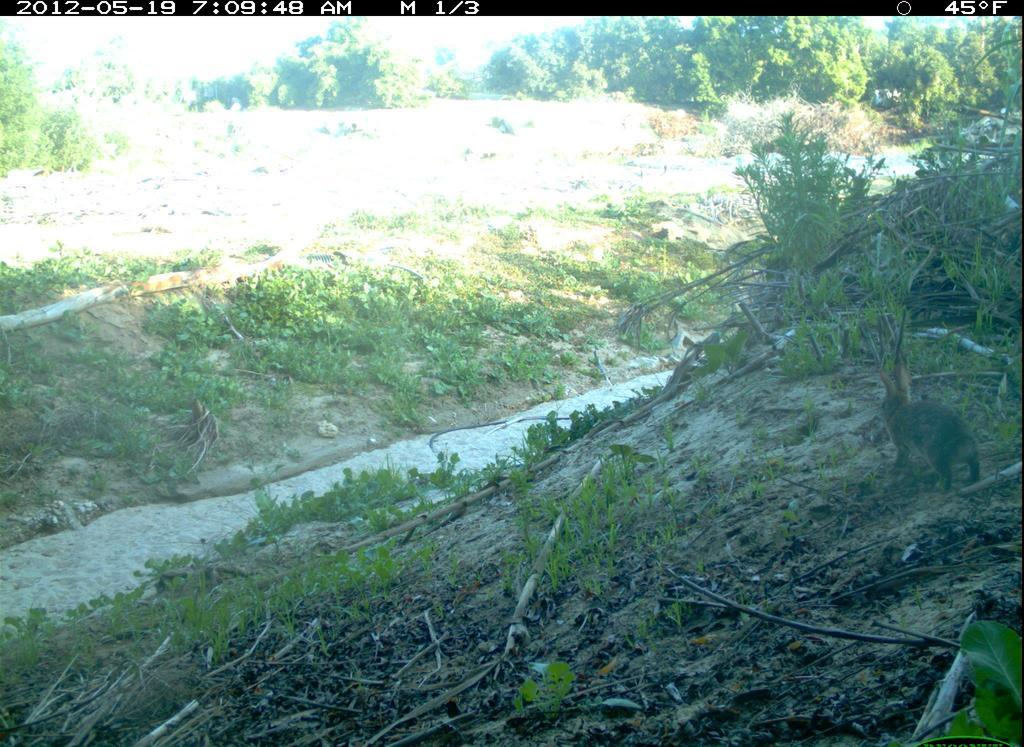rabbit: (871, 359, 991, 502)
